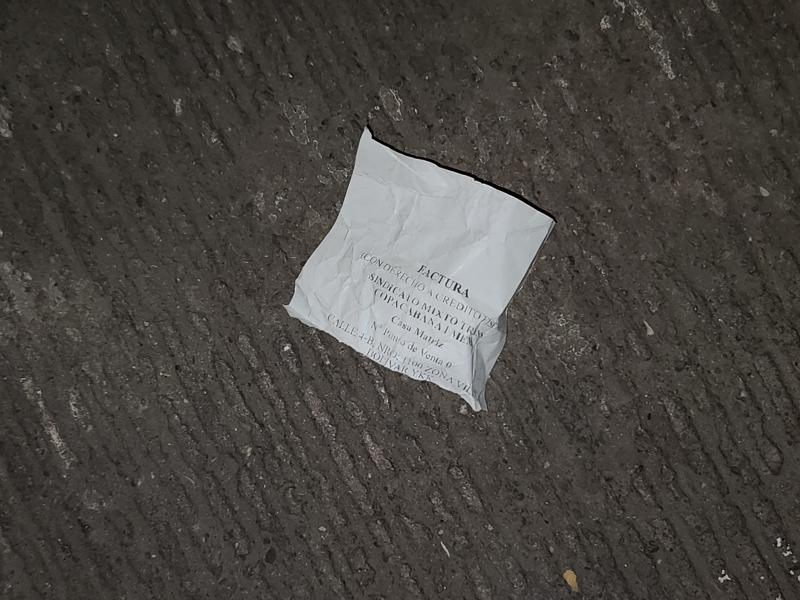papel: (285, 132, 556, 413)
